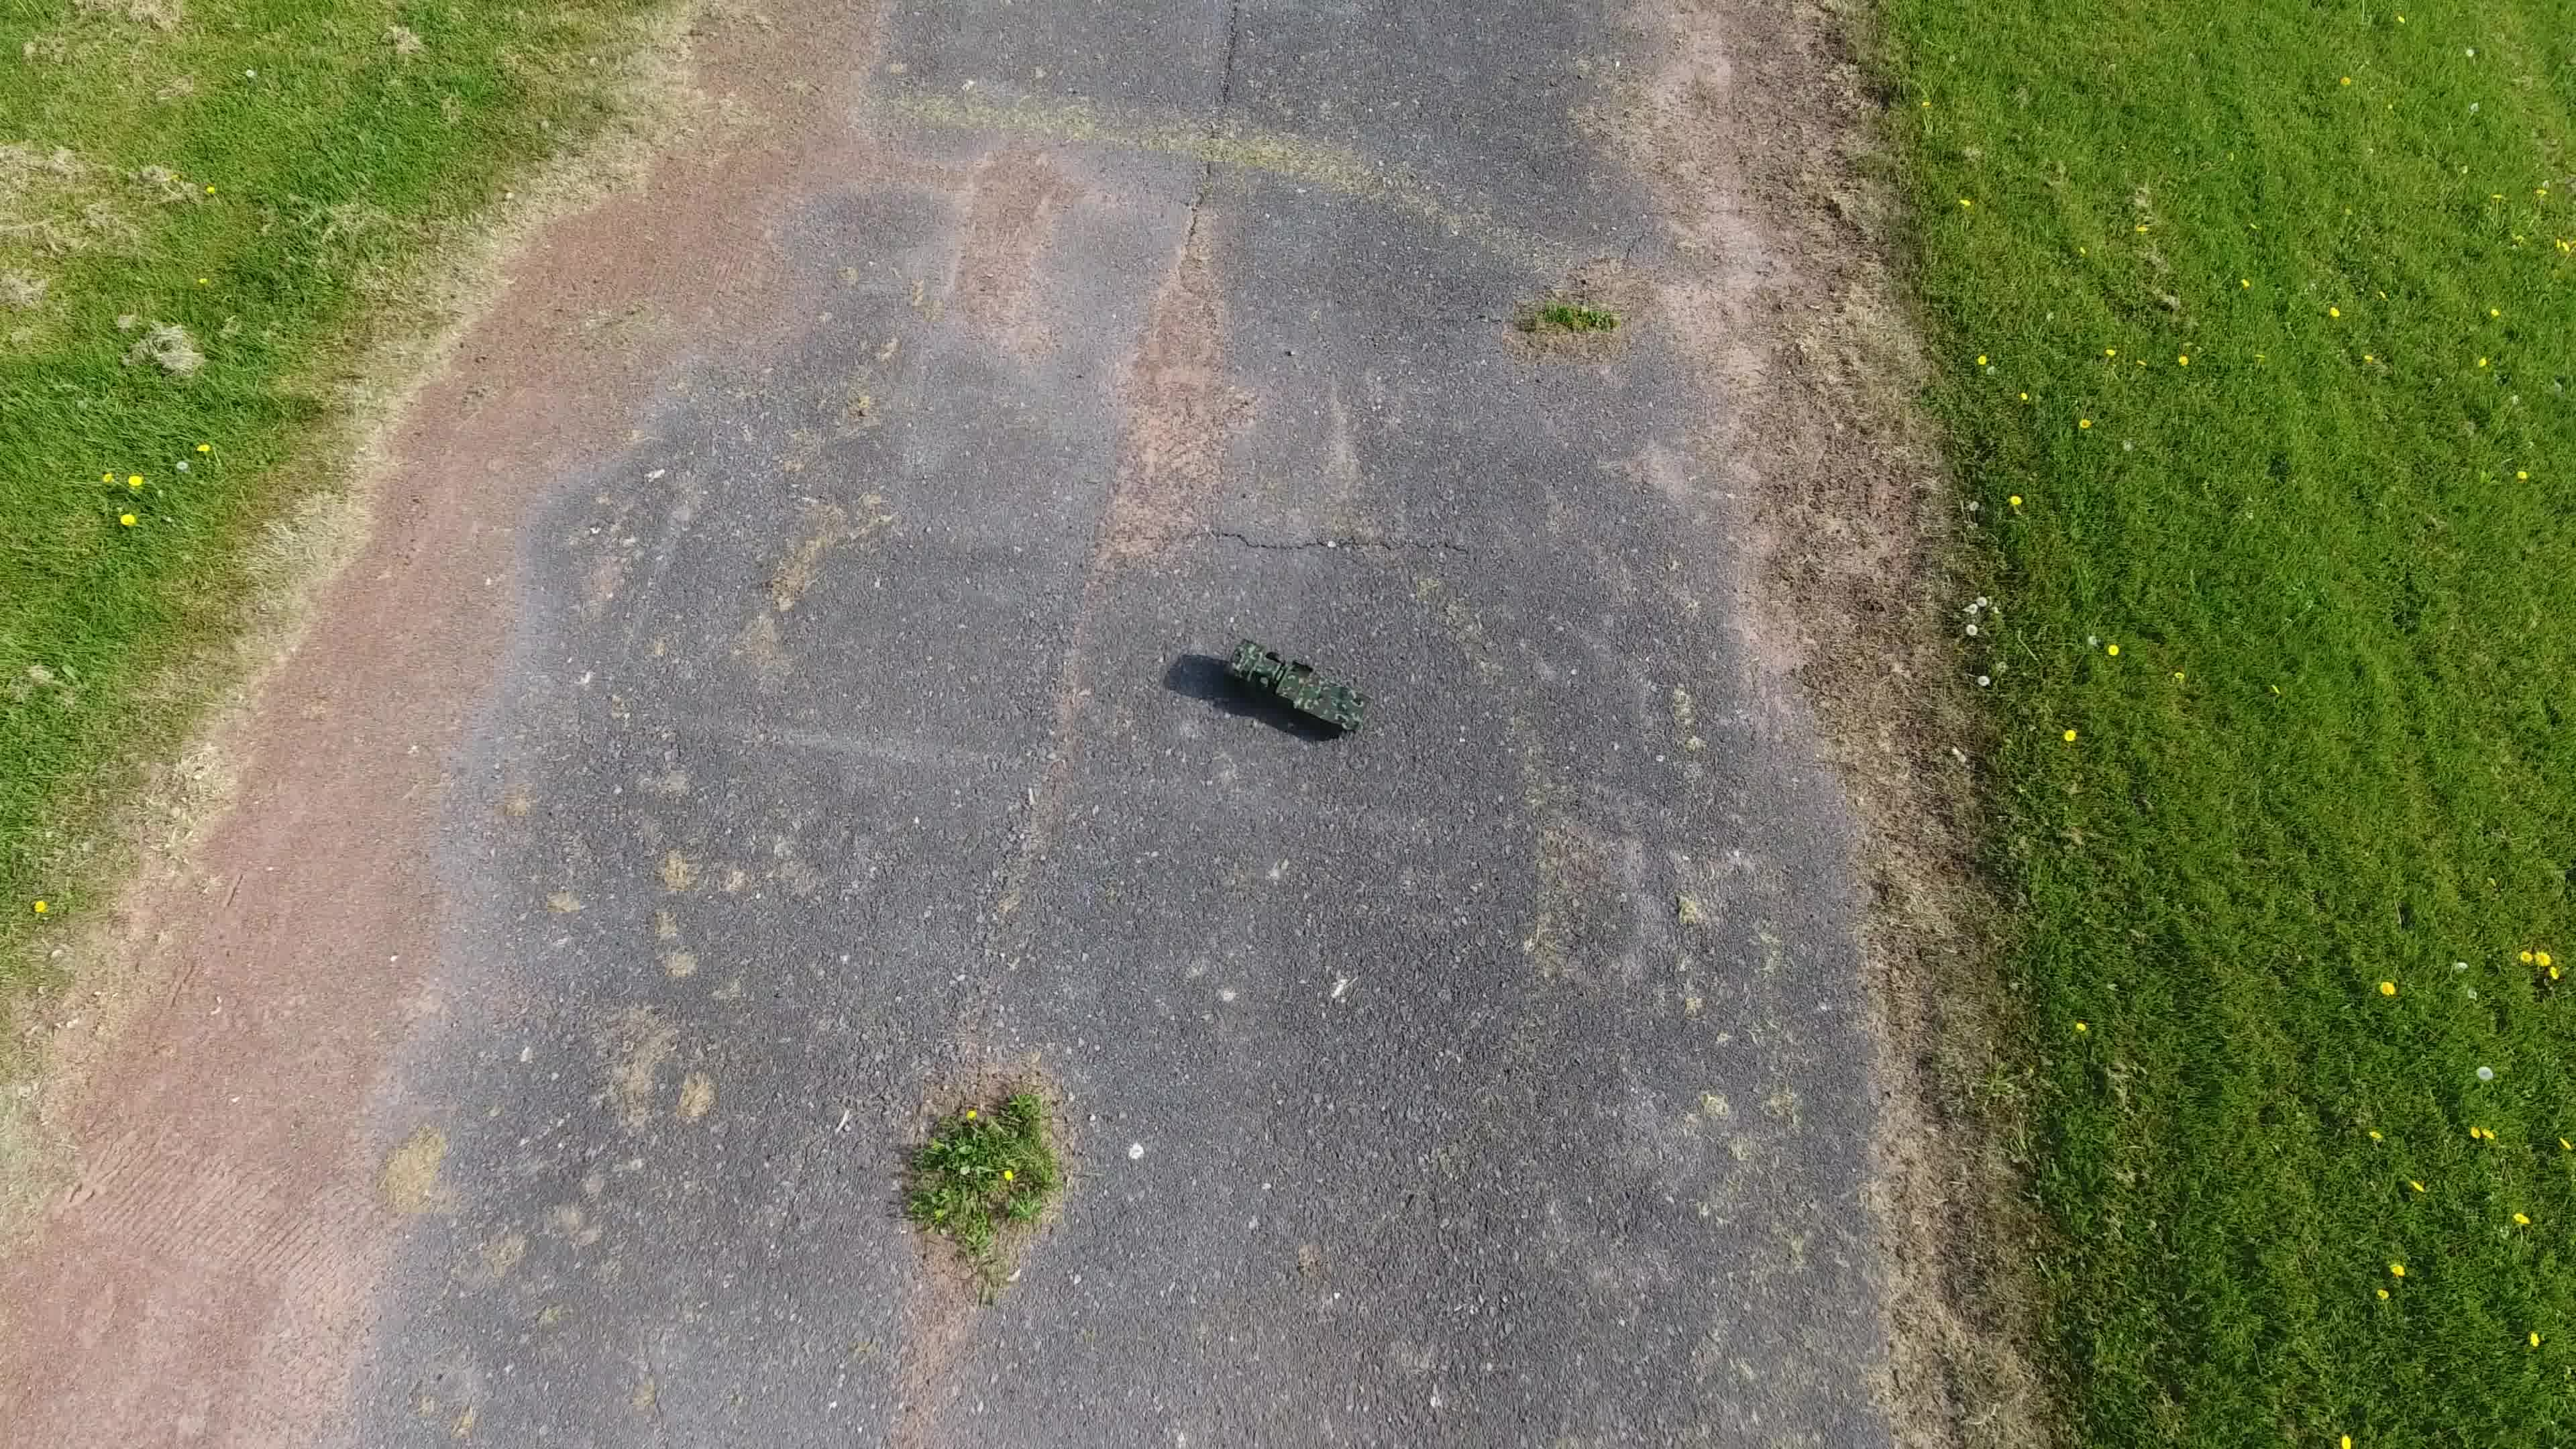transporter9_camo: (1221, 635, 1380, 740)
